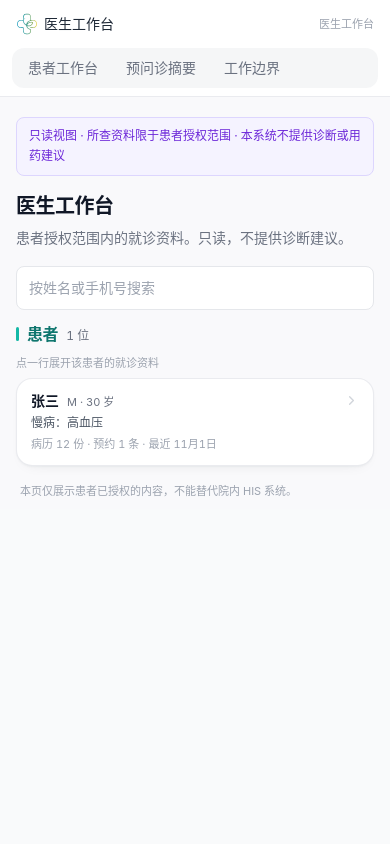
Test: 医生工作台：病历归属与口径 › 详情只给最近 10 条时，标题写清「最近 / 共」，不把截断当全部
Step 1. Click the button "张三 M · 30 岁 慢病：高血压 病历 12 份 · 预约 1 条 · 最近 11月1日" → click(91, 402), box [17, 379, 373, 465]
(page scrolled)
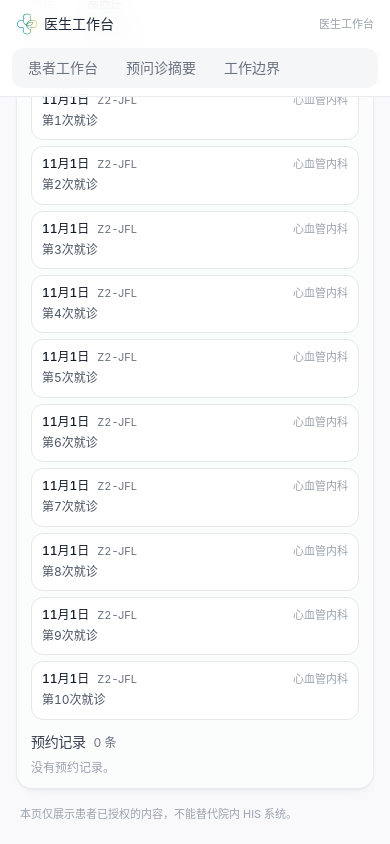
Expected: the text "最近 10 条 / 共 23 条" is shown, [94, 57, 208, 73]
Now the text "0 条" is shown, box [94, 735, 117, 751]
